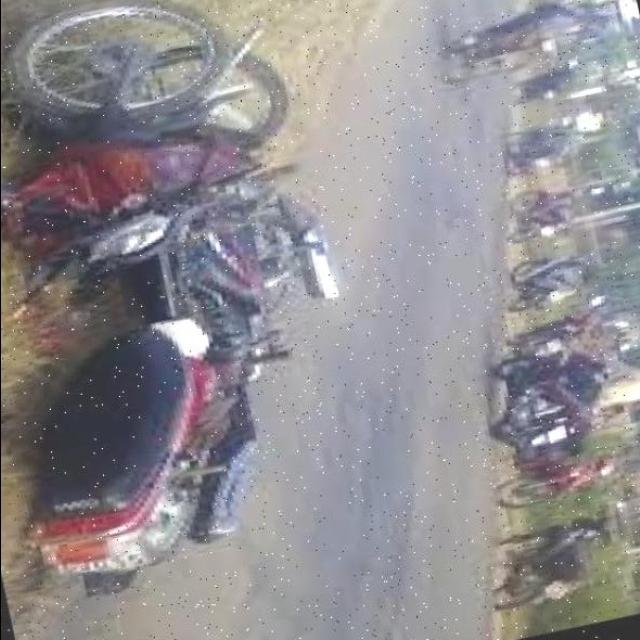accident: (0, 0, 472, 636)
